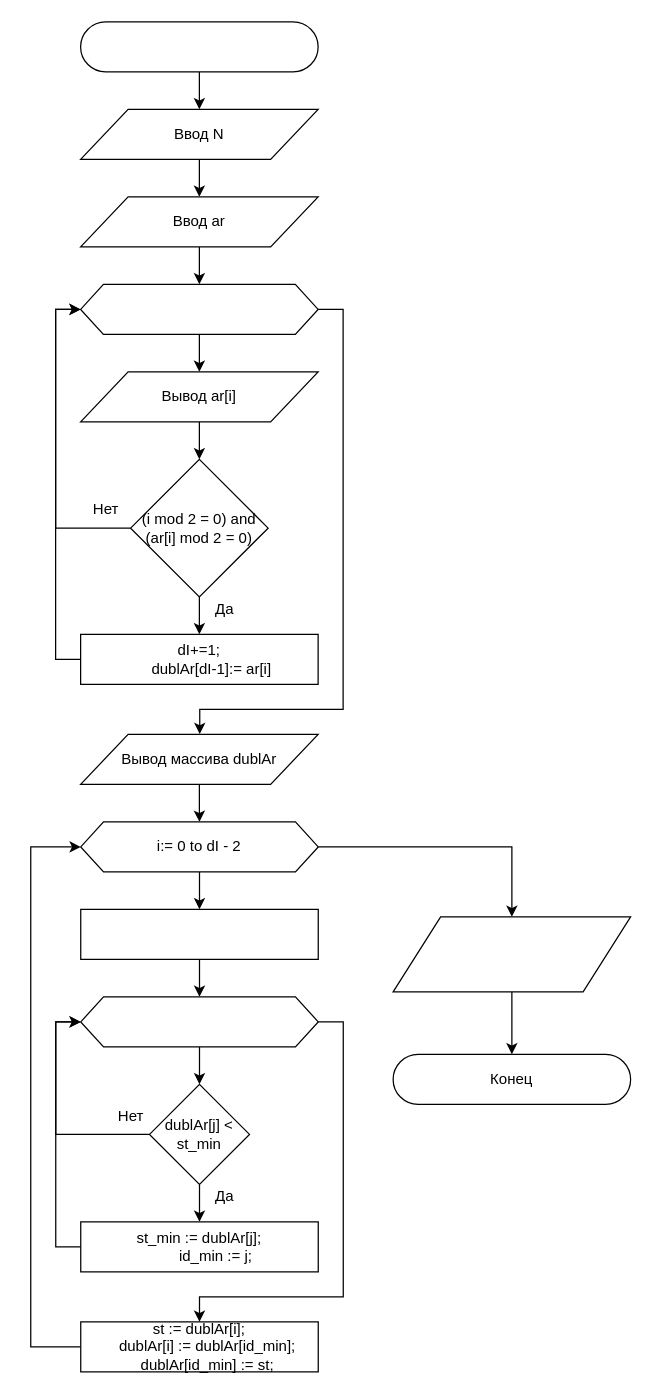
Image size: 653x1395. Some labels were removed from this diagram. Each missing label, with the centre of its shape:
i:= 1 .. N: (x=198, y=308)
j:= i + 1 to dI - 1: (x=199, y=1021)
st_min := dublAr[i]; id_min := i;: (x=199, y=933)
Вывод массива dubl после сортировки: (x=511, y=954)
Начало: (x=198, y=46)
